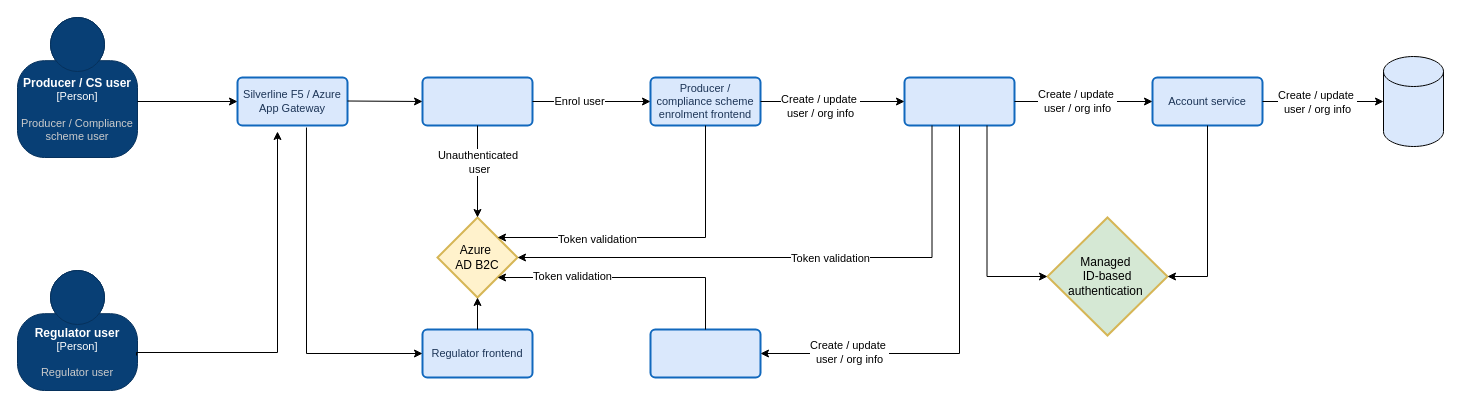
This 1461x408 diagram has some shape labels left out. The box of each missing label's shape, as (x1, y1, x2, y2) in pixels:
Account facade: (903, 76, 1015, 126)
Regulator enrolment frontend: (649, 328, 761, 378)
RPD frontend: (421, 76, 533, 126)
SQL: (1382, 56, 1444, 146)
